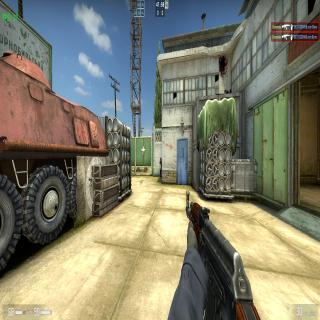CT-Body: (160, 157, 162, 178)
CT-Head: (160, 158, 162, 162)
